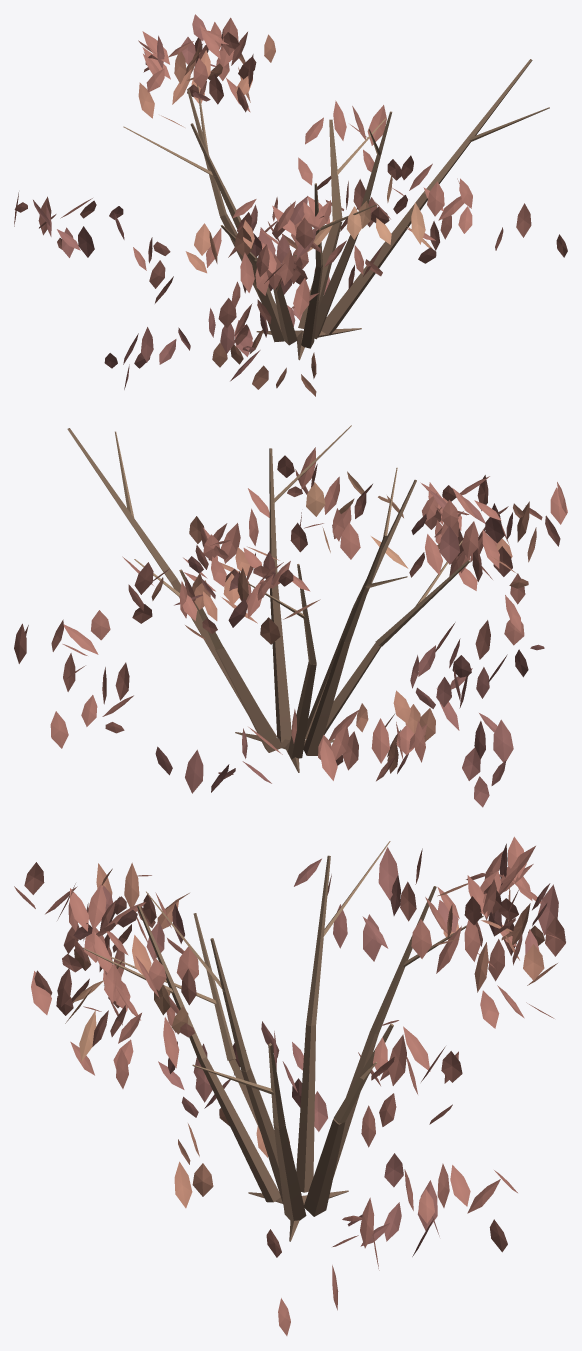
The model's file is bush_3d_06_red.glb.
3 views of the same model, one above another, from view 1: azimuth 30°, elevation 25°; view 2: azimuth 150°, elevation 25°; view 3: azimuth 270°, elevation 25° (orthographic). The views are drawn at different scales.
Parts seen in each view (by area): view 1: bush_3d_06_red_foliage, bush_3d_06_red_wood; view 2: bush_3d_06_red_foliage, bush_3d_06_red_wood; view 3: bush_3d_06_red_foliage, bush_3d_06_red_wood.
Boxes of the visible parts, <box> form: bush_3d_06_red_foliage: <box>14,14,567,396</box>; bush_3d_06_red_wood: <box>123,59,549,360</box>; bush_3d_06_red_foliage: <box>14,447,567,807</box>; bush_3d_06_red_wood: <box>67,425,469,772</box>; bush_3d_06_red_foliage: <box>14,836,565,1335</box>; bush_3d_06_red_wood: <box>83,841,483,1241</box>.
Size of the model in its own units: 3.5 by 1.9 by 2.7.
